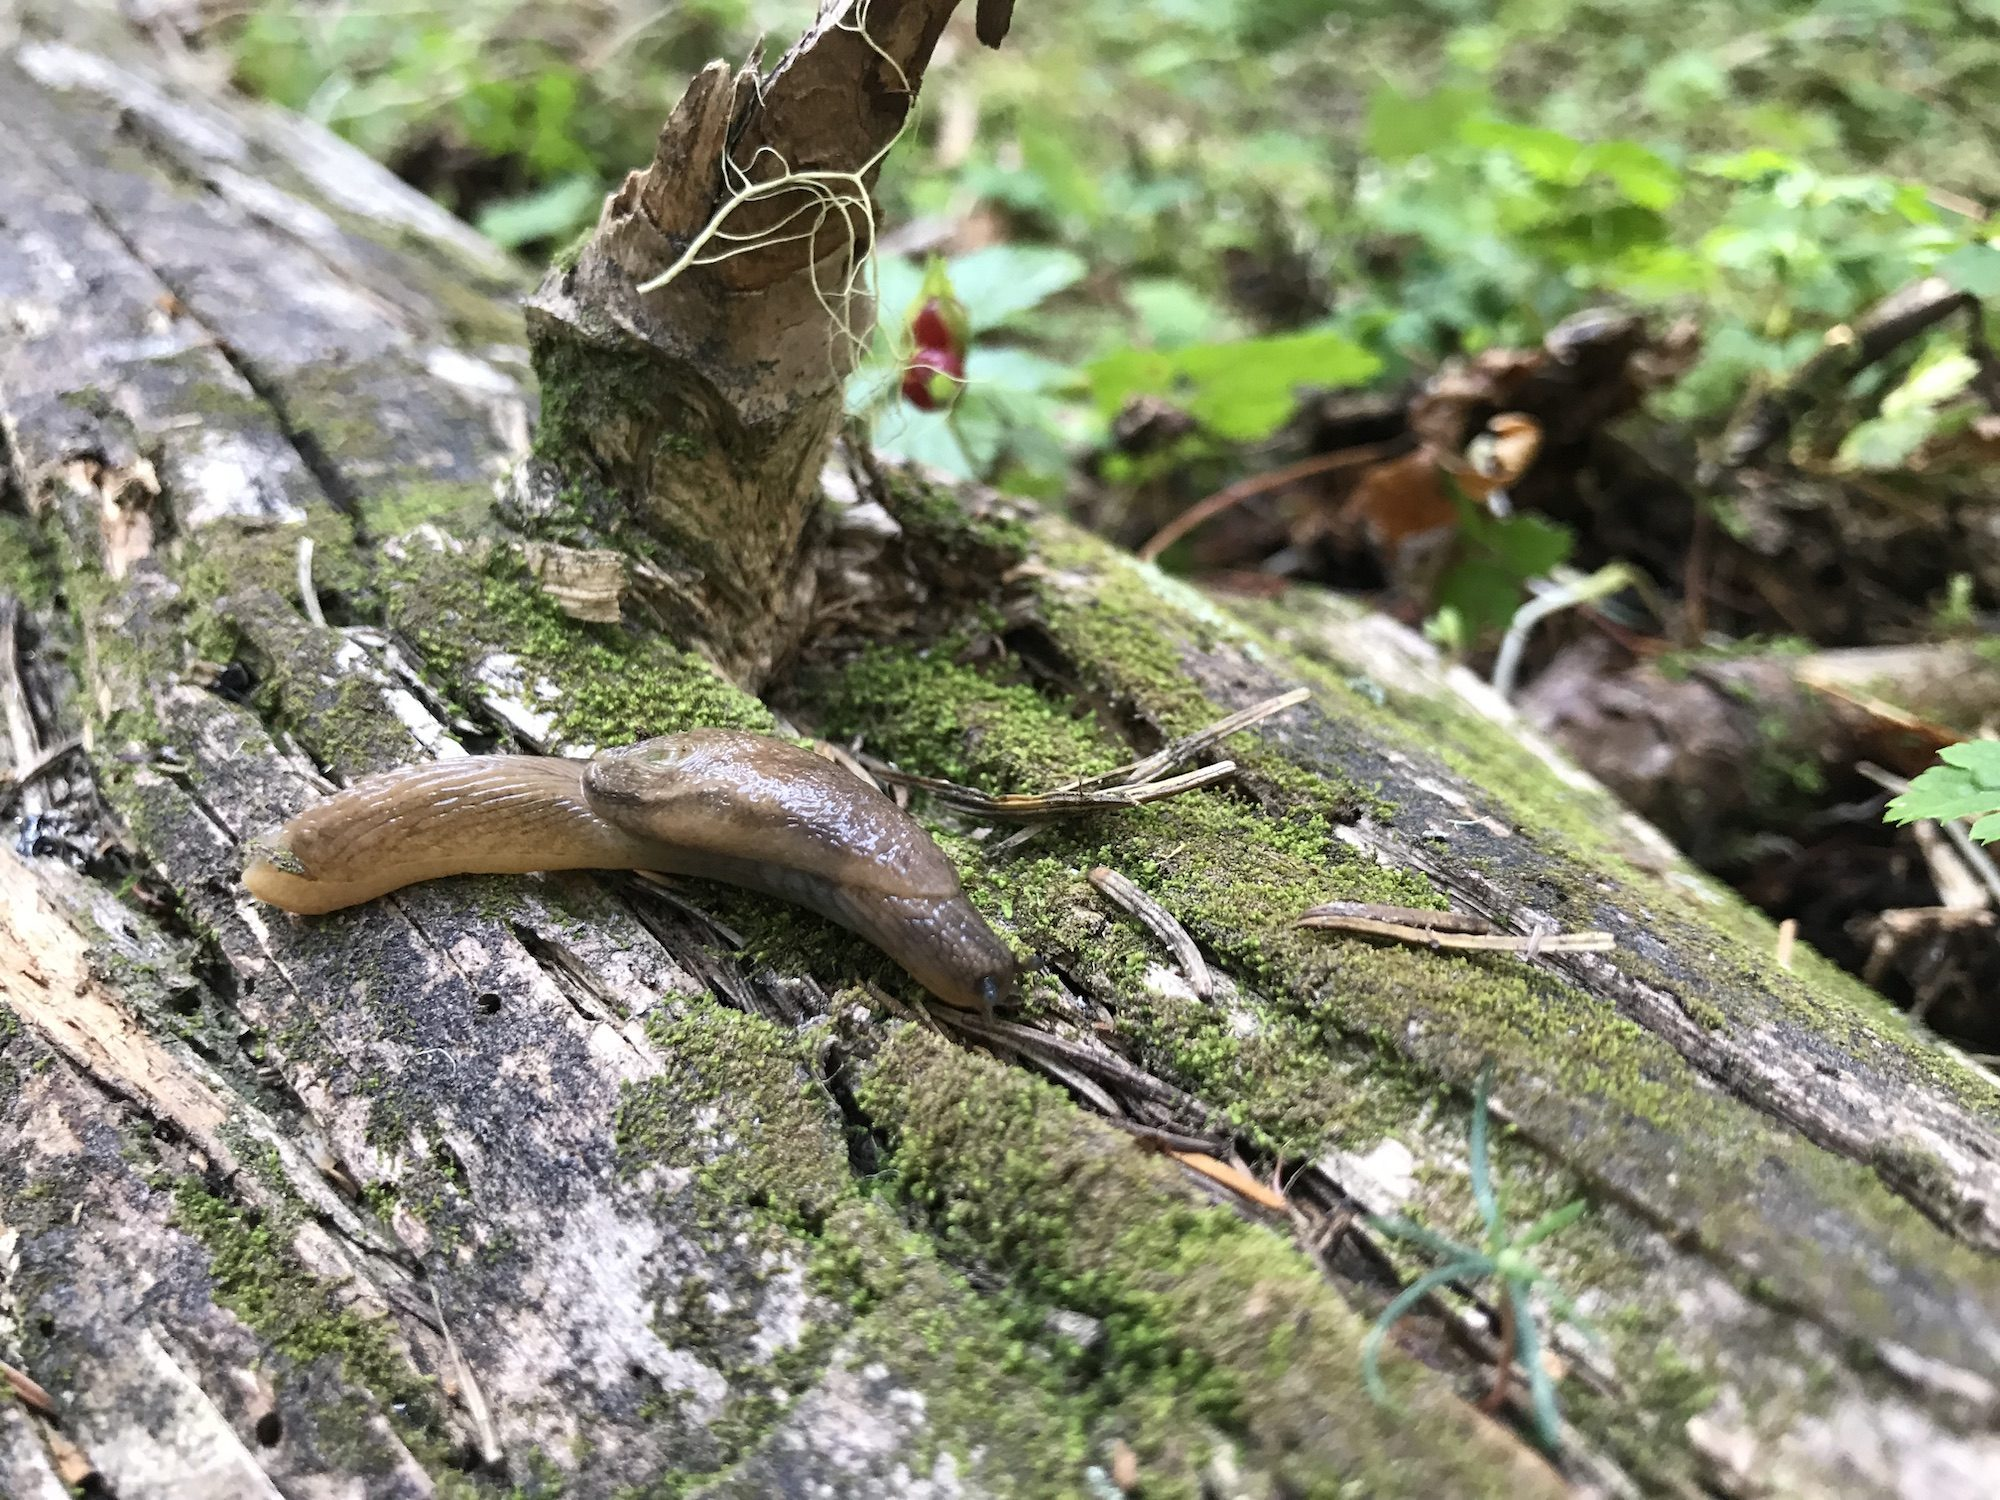slug: (230, 744, 1041, 1032)
